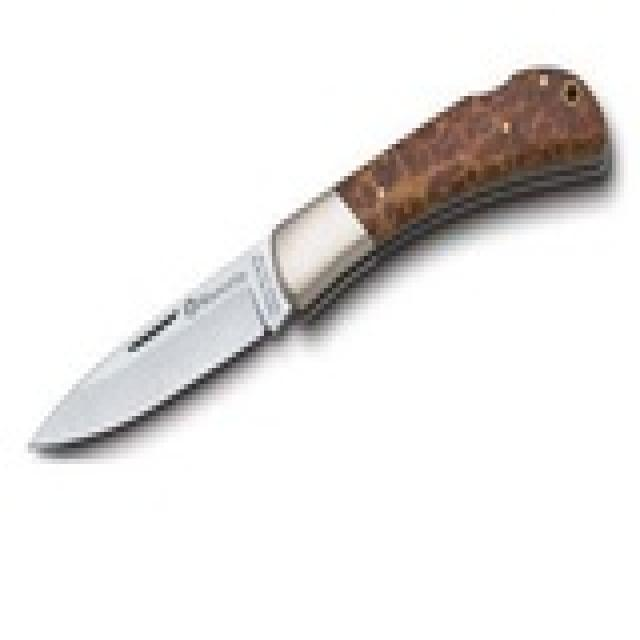Knife: (11, 57, 616, 480)
